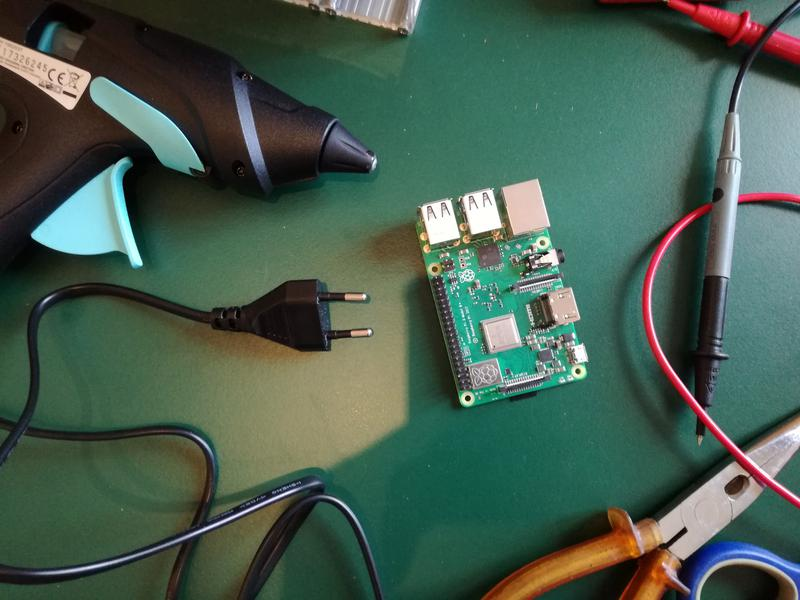Raspberry_Pi_3: (394, 175, 600, 413)
